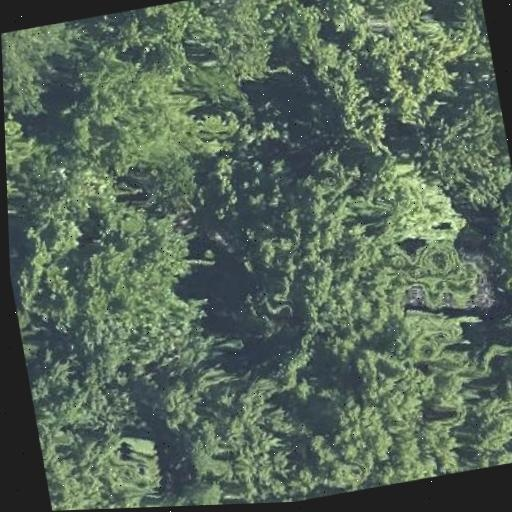tree-top: (44, 201, 234, 397), (262, 149, 409, 362), (318, 342, 472, 494), (63, 36, 214, 180), (166, 360, 308, 506), (290, 20, 400, 158), (168, 0, 305, 106), (364, 16, 471, 131), (418, 91, 512, 219), (44, 423, 174, 511), (368, 146, 469, 256), (1, 20, 92, 116), (3, 87, 51, 225), (315, 0, 448, 48), (10, 203, 88, 270), (454, 375, 512, 461), (476, 185, 512, 307), (435, 0, 487, 37)
